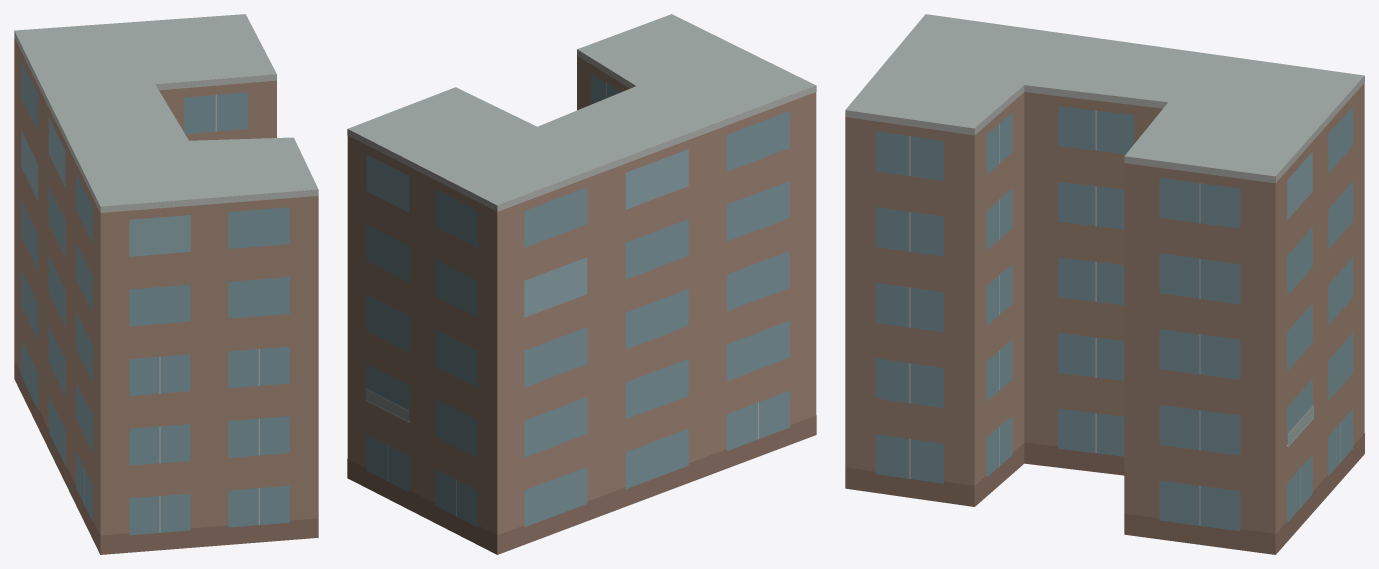
Rendered from survey-upis-32869780.glb.
The picture shows the model from 3 angles, left to right: view 1: azimuth 30°, elevation 25°; view 2: azimuth 150°, elevation 25°; view 3: azimuth 270°, elevation 25°; orthographic projection. The views are drawn at different scales.
Visible parts, largest first — view 1: survey-upis-32869780.tmp; view 2: survey-upis-32869780.tmp; view 3: survey-upis-32869780.tmp.
Part boxes in pixels (x1,y1,x2,y2): survey-upis-32869780.tmp: (14,14,318,554); survey-upis-32869780.tmp: (347,14,816,554); survey-upis-32869780.tmp: (845,14,1364,554).
Bounding box in the file's own units: 12.35 × 13.4 × 16.68.
